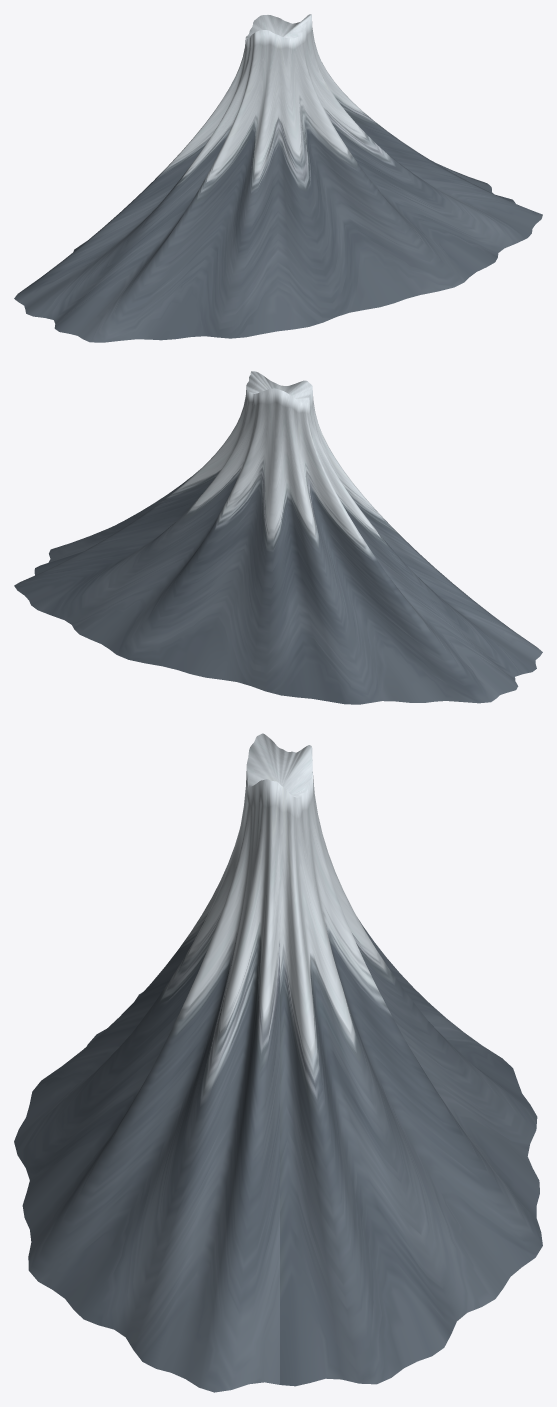
Rendered from mount_fuji_peak.glb.
The picture shows the model from 3 angles, top to bottom: view 1: azimuth 30°, elevation 25°; view 2: azimuth 150°, elevation 25°; view 3: azimuth 270°, elevation 25°; orthographic projection. The views are drawn at different scales.
Parts seen in each view (by area): view 1: mount_fuji_peak; view 2: mount_fuji_peak; view 3: mount_fuji_peak.
Boxes of the visible parts, x1,y1,x2,y2 form: mount_fuji_peak: [14, 14, 542, 342]; mount_fuji_peak: [14, 371, 542, 704]; mount_fuji_peak: [14, 733, 542, 1392].
Bounding box in the file's own units: 68 × 32 × 36.
1 material, 1 textured.
